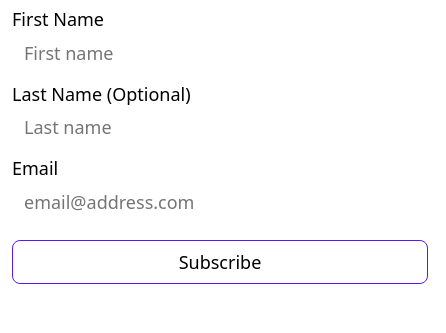
Test: CallToActionForm analytics in production › tracks failed submissions with error label
Type "Ada" into the field labelled "First Name".
click(220, 52); type("Ada")  # box [12,34,428,70]
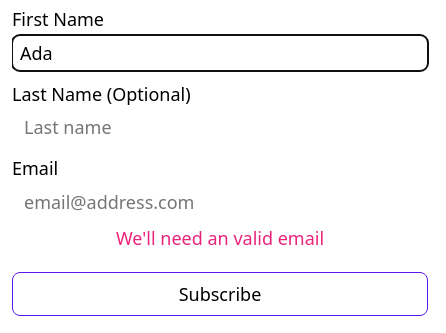
Type "ada@example.com" into the field labelled "Email".
click(220, 202); type("ada@example.com")  # box [12,184,428,220]
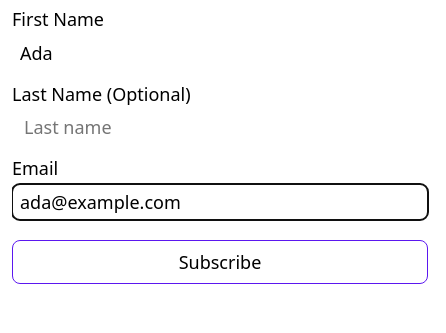
Click the button "Subscribe".
click(220, 262)  # box [12,240,428,284]
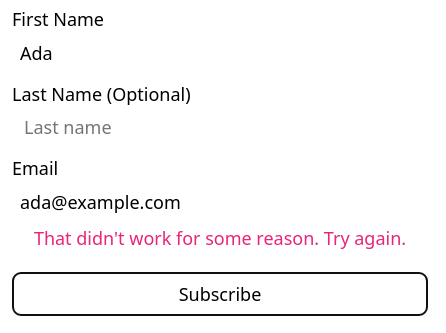
Now the text "That didn't work for some reason. Try again." is shown 2 times
